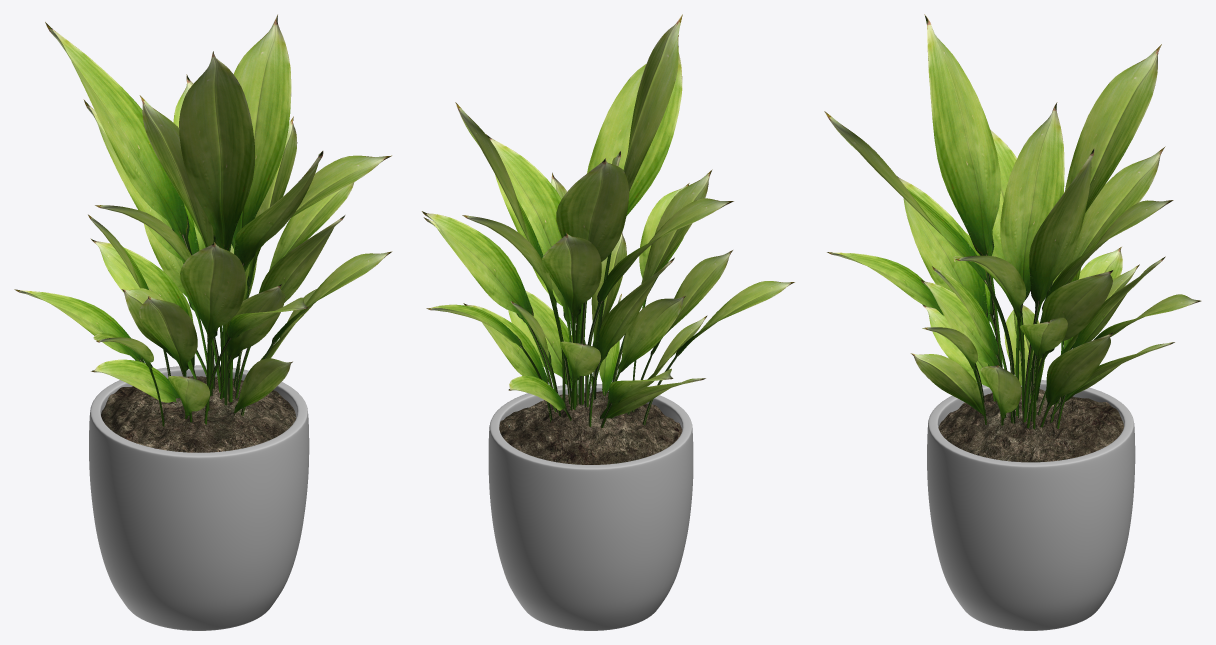
Rendered from Plants01.fbx.
3 renders of one model, left to right at view 1: azimuth 30°, elevation 25°; view 2: azimuth 150°, elevation 25°; view 3: azimuth 270°, elevation 25°, orthographic. The views are drawn at different scales.
Visible parts, largest first — view 1: ASPEDISTRA_PLANT_2; view 2: ASPEDISTRA_PLANT_2; view 3: ASPEDISTRA_PLANT_2.
Boxes of the visible parts, bbox=[...] form: ASPEDISTRA_PLANT_2: bbox=[14, 14, 392, 630]; ASPEDISTRA_PLANT_2: bbox=[422, 14, 794, 630]; ASPEDISTRA_PLANT_2: bbox=[824, 14, 1201, 630].
Size of the model in its own units: 54.68 by 94.78 by 57.01.
